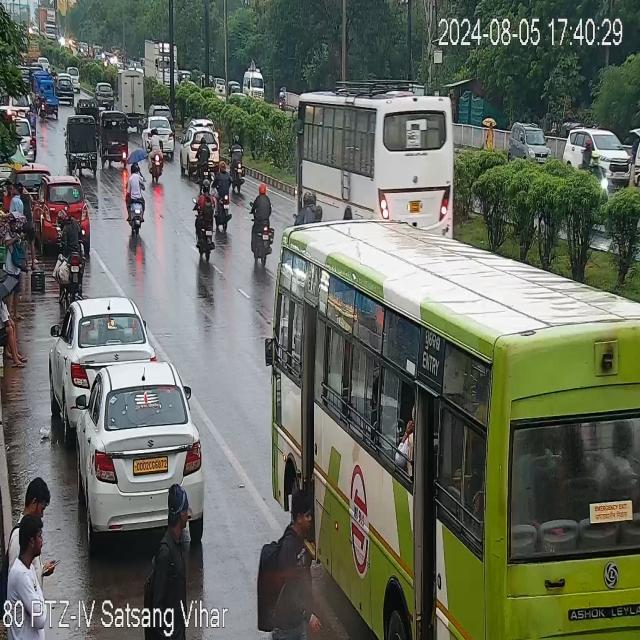2-wheelers: (54, 208, 88, 290), (194, 176, 222, 256), (123, 163, 151, 239), (250, 183, 276, 264), (214, 163, 238, 236), (142, 131, 172, 181), (228, 132, 246, 192), (38, 89, 48, 122)
auto: (67, 114, 105, 172), (99, 111, 133, 165)
bus: (279, 207, 640, 639), (291, 84, 465, 234), (243, 58, 269, 102)
car: (61, 363, 205, 523), (58, 299, 148, 405), (564, 124, 632, 190), (39, 179, 93, 235), (182, 125, 224, 175), (510, 120, 550, 168), (57, 71, 76, 107), (95, 81, 115, 111), (150, 102, 178, 120), (68, 62, 82, 94), (38, 56, 52, 74), (214, 76, 226, 96)
pedestrian: (257, 476, 316, 640), (148, 484, 190, 640), (16, 478, 62, 602), (8, 528, 58, 614), (0, 288, 27, 367), (0, 211, 27, 289), (22, 473, 50, 515), (484, 112, 496, 156)
truck: (117, 68, 151, 120), (144, 38, 177, 86), (37, 4, 59, 41), (484, 282, 494, 286)
